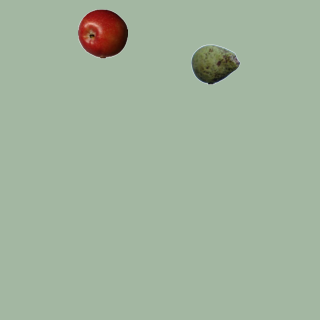Apple Braeburn: (77, 8, 127, 58)
Pear Stone: (190, 39, 240, 89)
